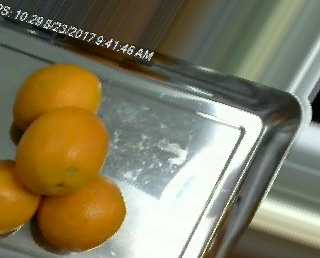Orange: (15, 105, 109, 195), (12, 62, 102, 143), (37, 173, 125, 251)
